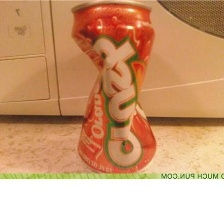can: (68, 0, 160, 175)
